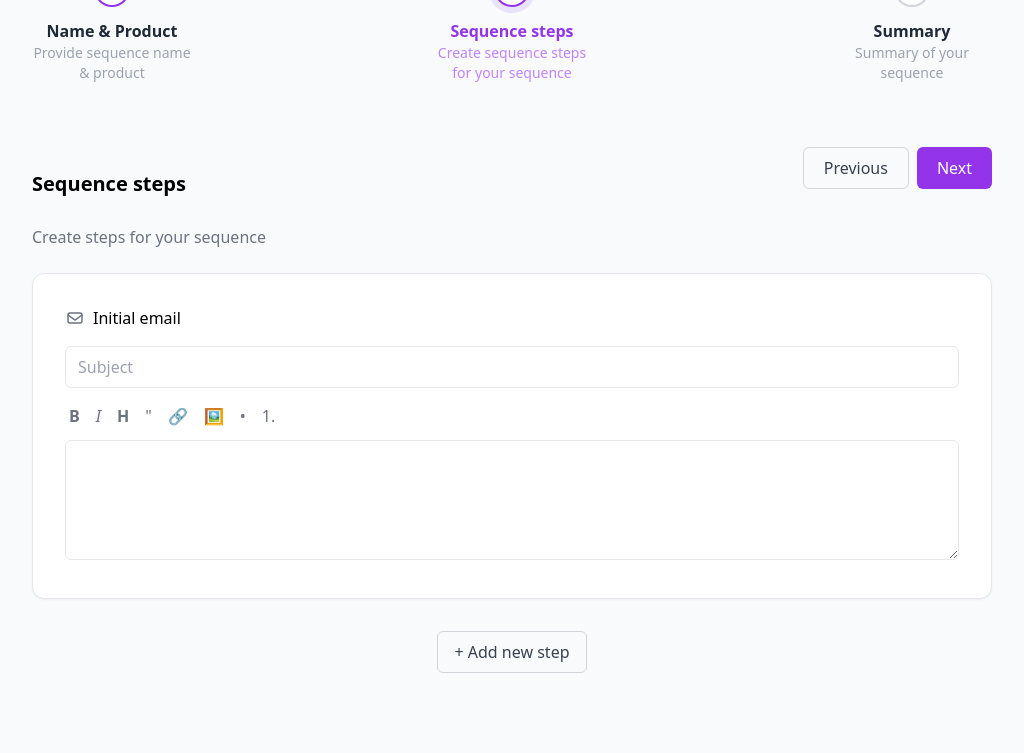
Test: SequenceStepsPage › deletes a step
(page scrolled)
Click the button "+ Add new step" at [512, 652], box [438,631,586,673]
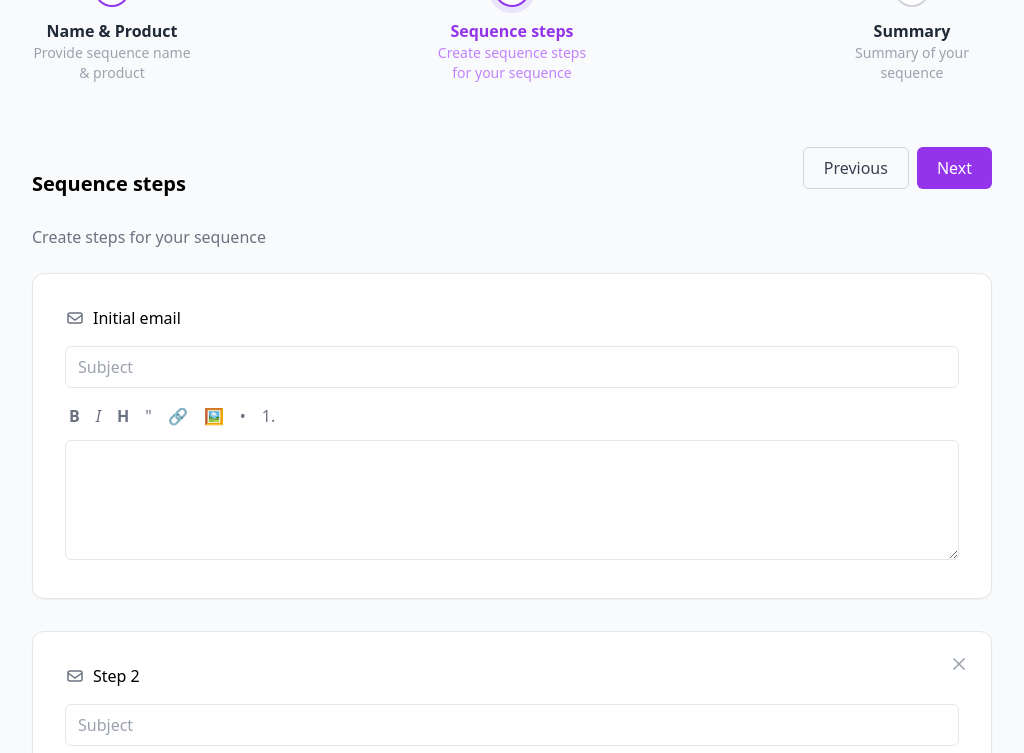
Click the button named "delete step" at [959, 664], box [943,648,975,680]
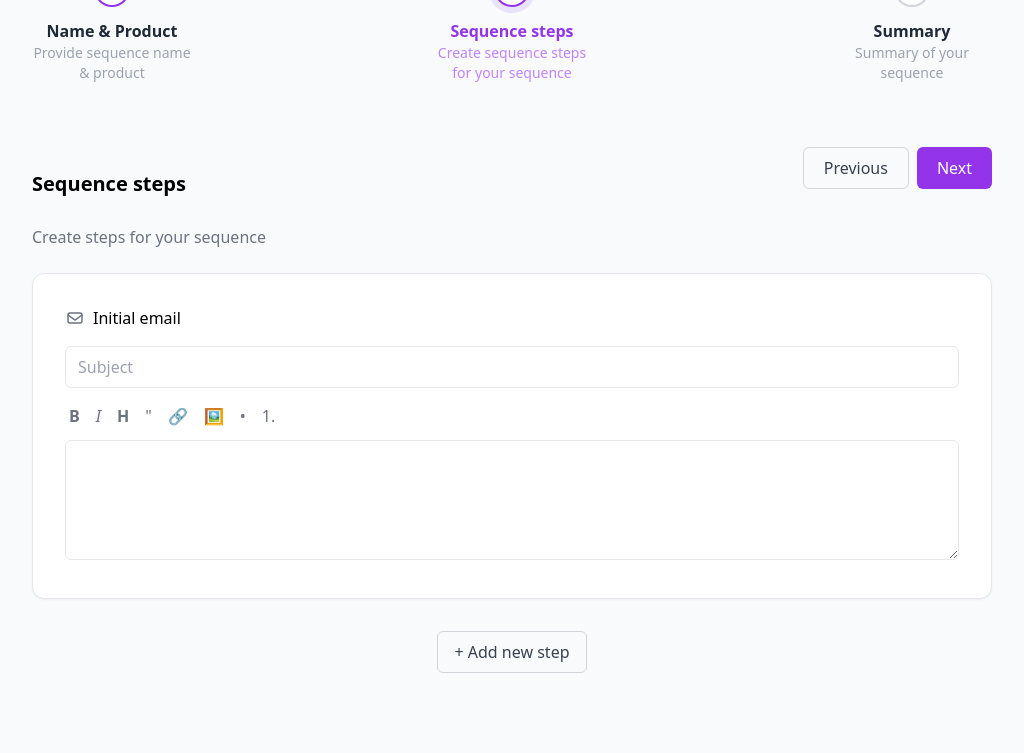
Result: the text "Step 2" is gone
